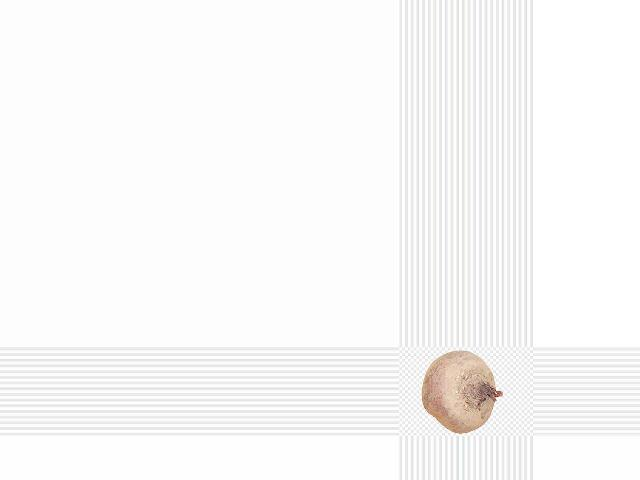beet: (422, 351, 503, 433)
